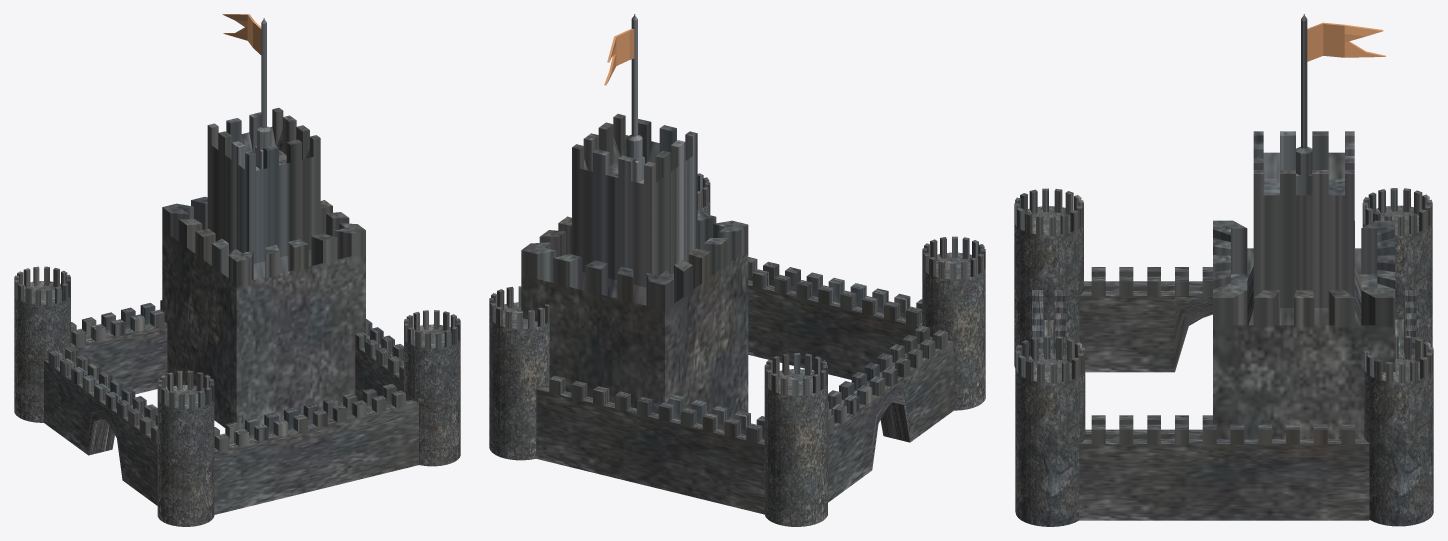
The model's file is Castle.fbx.
3 views of the same model, side by side, from view 1: azimuth 30°, elevation 25°; view 2: azimuth 150°, elevation 25°; view 3: azimuth 270°, elevation 25° (orthographic). The views are drawn at different scales.
Visible parts, largest first — view 1: Castle; view 2: Castle; view 3: Castle.
Part boxes in pixels (left/top/right/bottom): Castle: left=14, top=14, right=460, bottom=526; Castle: left=489, top=14, right=985, bottom=526; Castle: left=1014, top=14, right=1433, bottom=526.
Size of the model in its own units: 2465 by 2981 by 2465.
